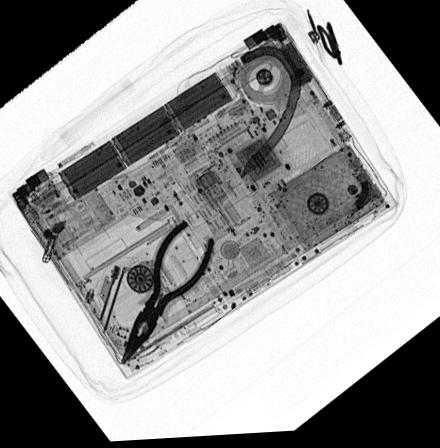Pliers: (118, 219, 216, 368)
